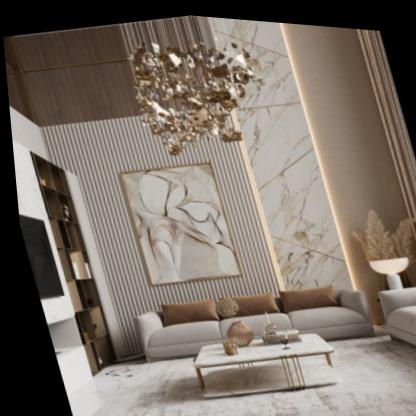Wall Panel: (11, 13, 416, 363)
